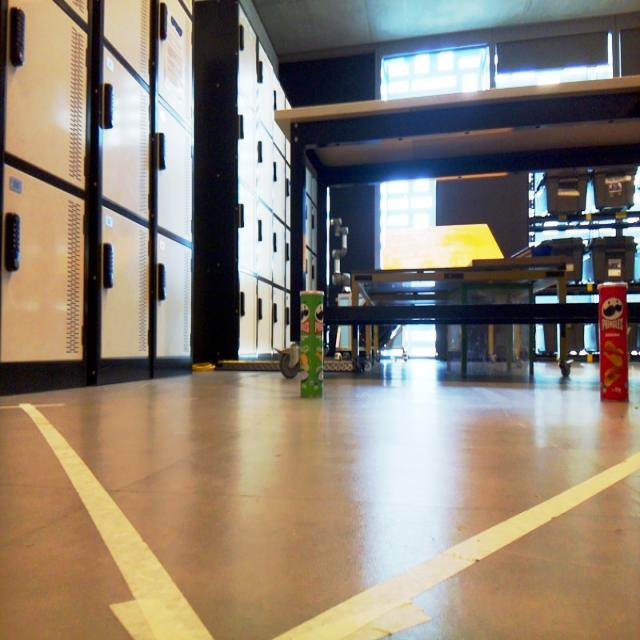greenpringles: (298, 286, 328, 414)
redpringles: (586, 272, 640, 406)
